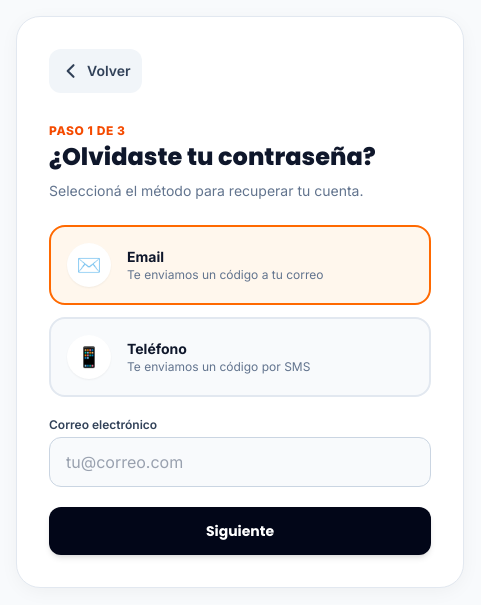
Scenario: RecoverPasswordPage › en el Paso 2 muestra el código maquetado 8596 en rojo con asterisco y valida el código OTP
This screenshot has width=481, height=605.
Later steps or results of the test are not shown.
Type "lucia@callejeros.ar" into the field labelled "Correo electrónico" at (240,462), box [49,437,431,487]
Click the button "Siguiente" at (240,531), box [49,507,431,555]
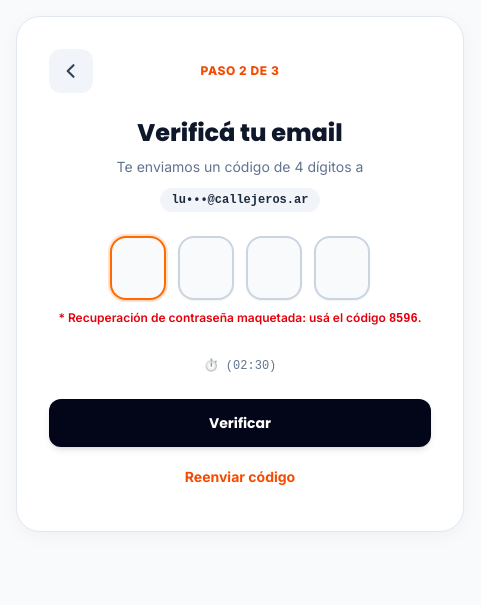
Expected: the heading "Verificá tu email" is shown, [137,116,343,149]
Expected: the text "lu•••@callejeros.ar" is shown, [172,192,308,208]
Expected: the element showing "* Recuperación de contraseña maquetada: usá el código 8596." is shown, [49,310,431,327]
Type "1" into the field named "Dígito 1" at (138,268), box [110,236,166,300]
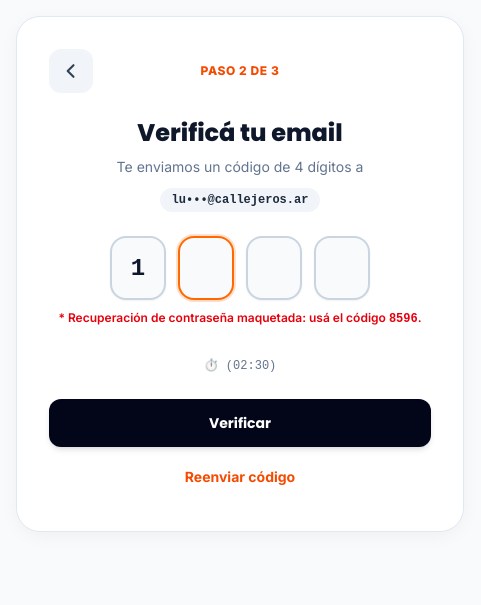
Click the button "Verificar" at (240,423), box [49,399,431,447]
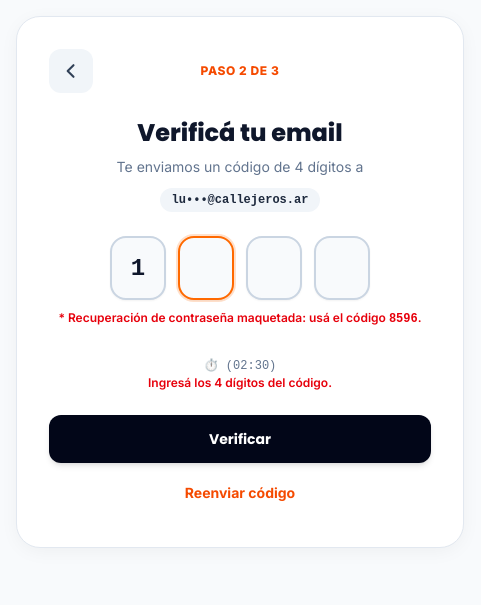
Expected: the text "Ingresá los 4 dígitos del código." is shown, [148,375,332,390]
Type "2" into the field named "Dígito 2" at (206,268), box [178,236,234,300]
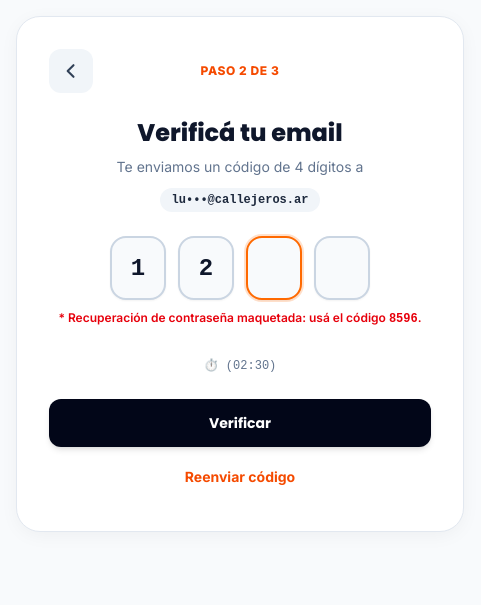
Type "3" into the field named "Dígito 3" at (274,268), box [246,236,302,300]
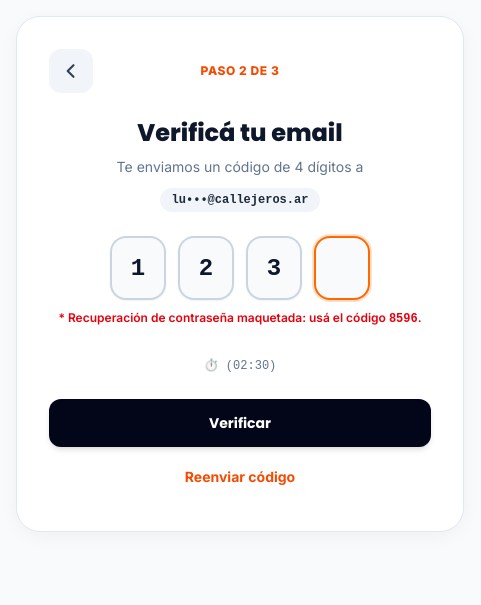
Type "4" into the field named "Dígito 4" at (342,268), box [314,236,370,300]
Click the button "Verificar" at (240,423), box [49,399,431,447]
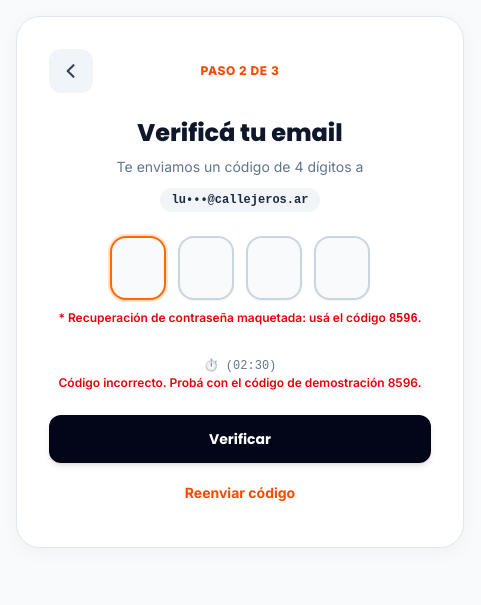
Expected: the text "Código incorrecto. Probá con el código de demostración 8596." is shown, [49,375,431,391]
Expected: the field named "Dígito 1" is empty, [110,236,166,300]
Expected: the field named "Dígito 2" is empty, [178,236,234,300]
